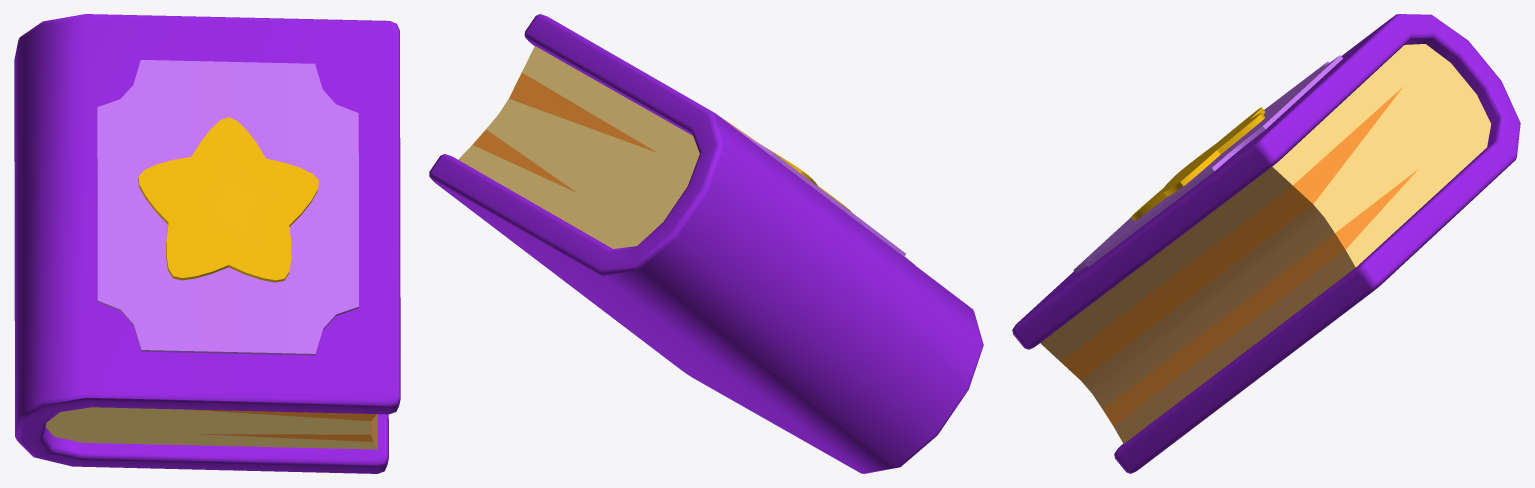
3 views of the same model, side by side, from view 1: azimuth 30°, elevation 25°; view 2: azimuth 150°, elevation 25°; view 3: azimuth 270°, elevation 25° (orthographic). The views are drawn at different scales.
Visible parts, largest first — view 1: model_0.010; view 2: model_0.010; view 3: model_0.010.
Part boxes in pixels (x1,y1,x2,y2): model_0.010: (14, 14, 400, 473); model_0.010: (429, 14, 983, 473); model_0.010: (1012, 14, 1520, 473).
Size of the model in its own units: 4.03 by 3.44 by 4.1.
